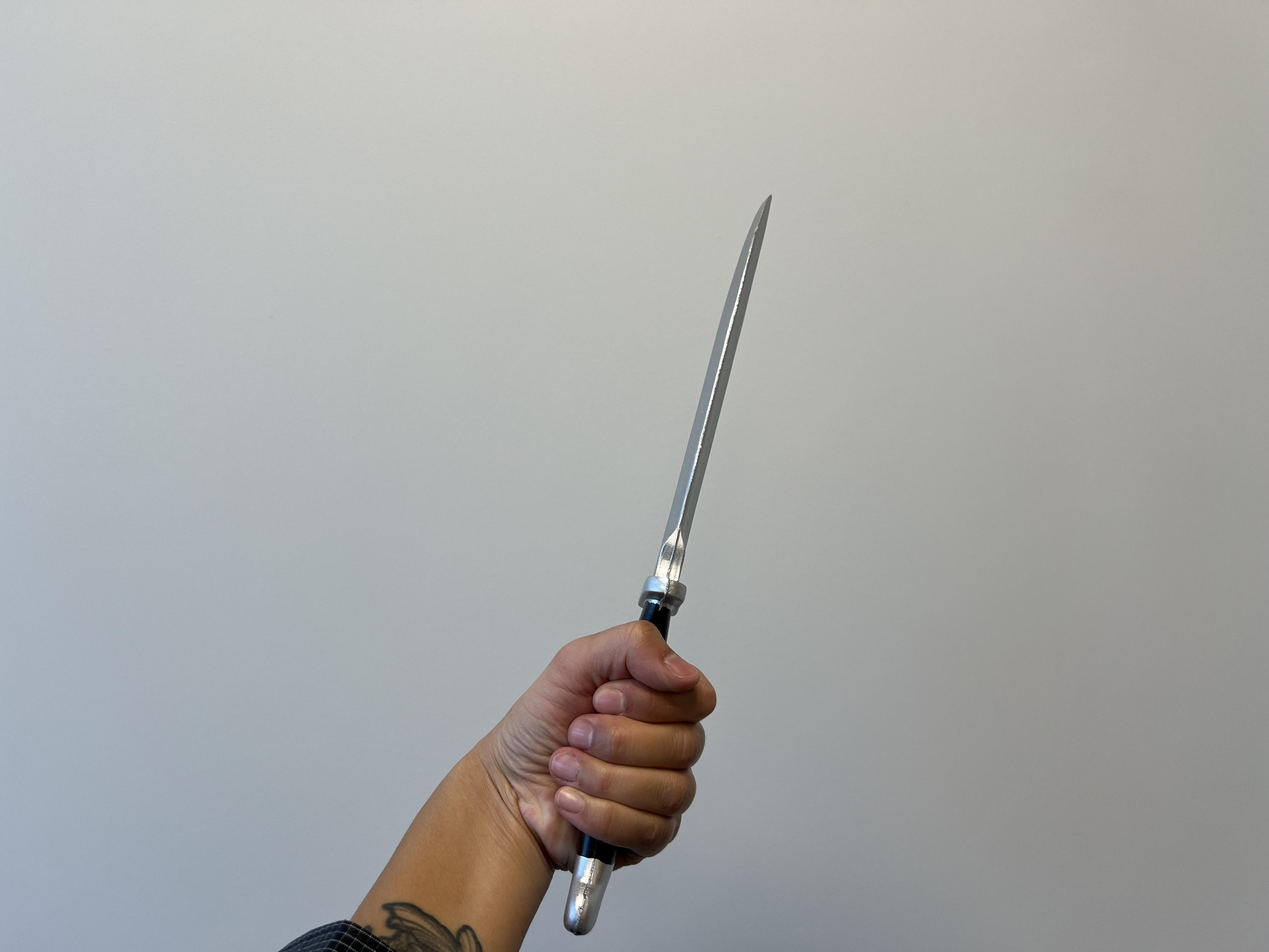Knife: (291, 623, 718, 952), (632, 198, 776, 621), (495, 623, 718, 866)
